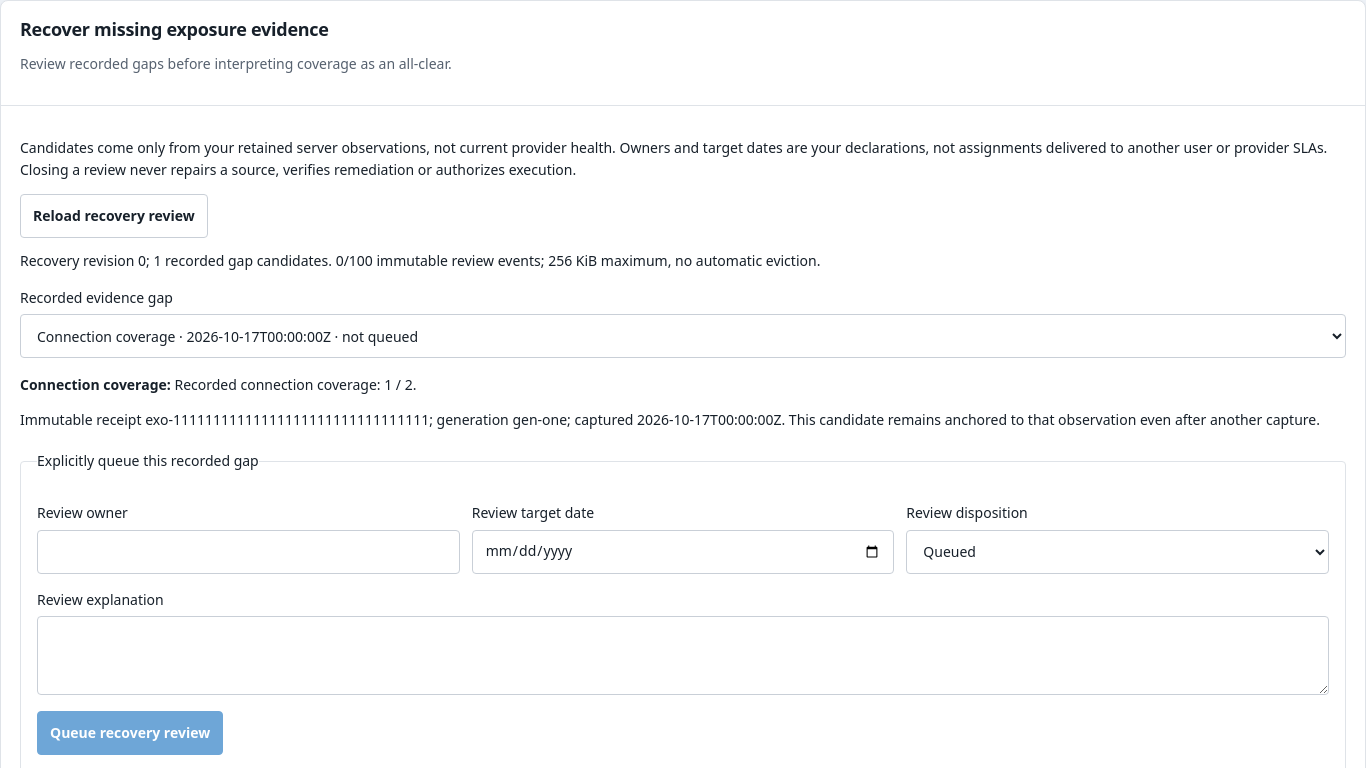
Test case: Exposure recovery review › rejects success-shaped response that changes the reviewed declaration
Expected: the text "Recovery revision 0" is shown, [20,251,820,270]
Type "Operations" into the field labelled "Review owner" at (248, 552), box [37,530,460,574]
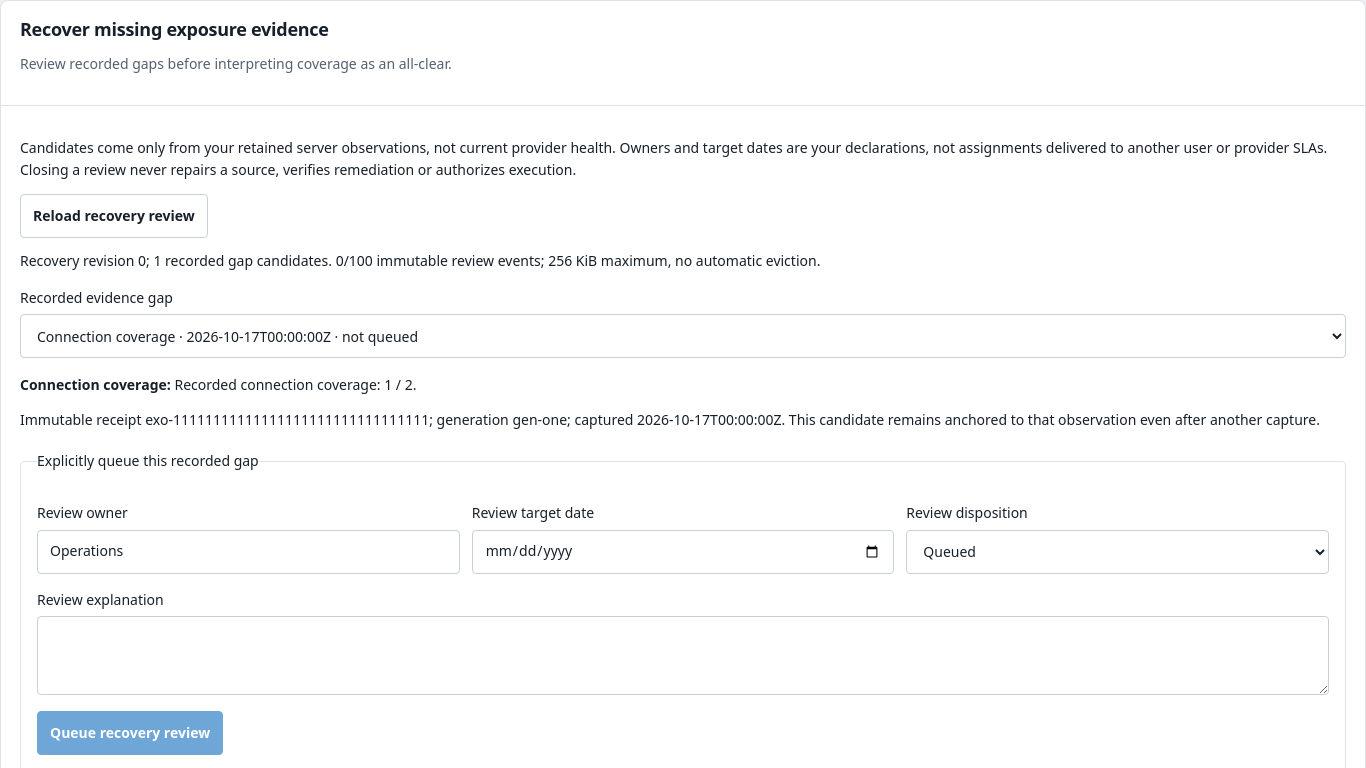
Type "2026-11-01" into the date field labelled "Review target date" at (683, 552), box [472,530,894,574]
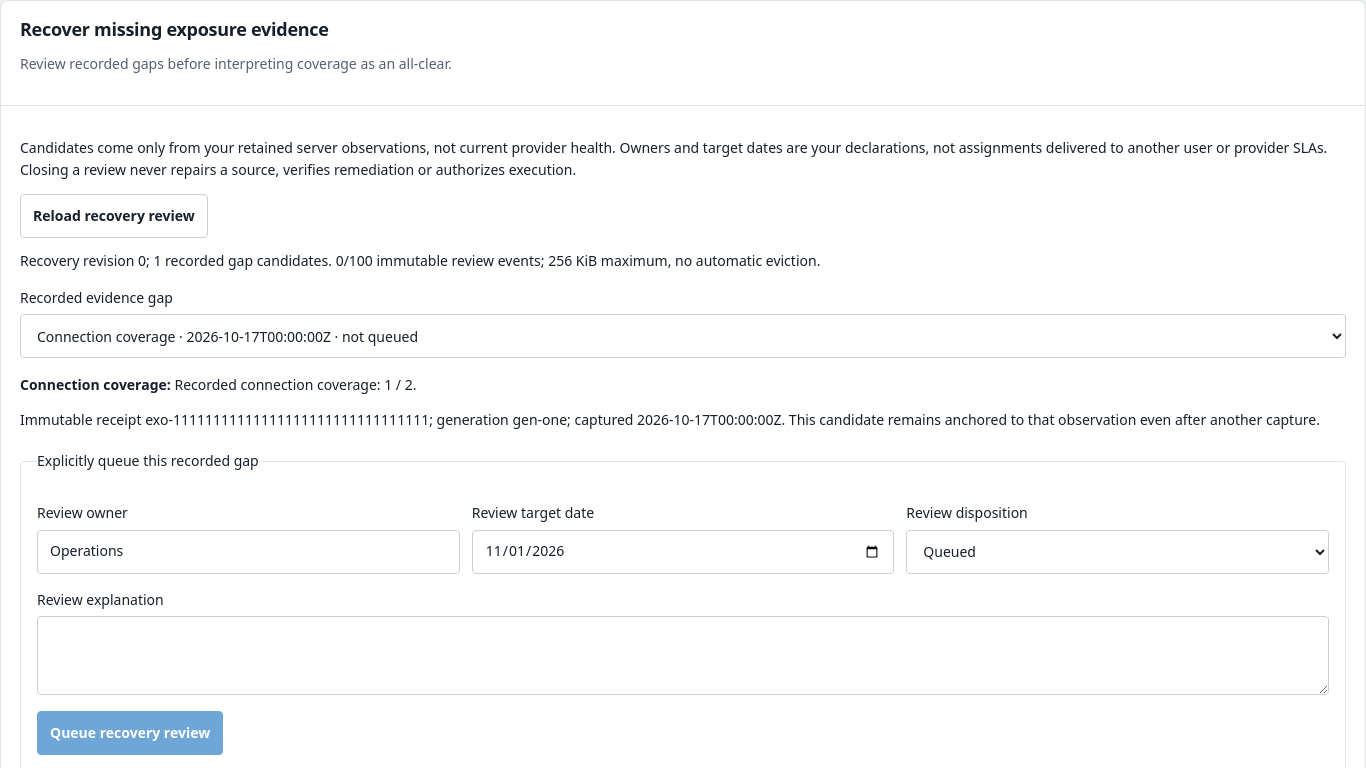
Type "Investigate excluded connection" into the text box labelled "Review explanation" at (683, 655), box [37,616,1329,695]
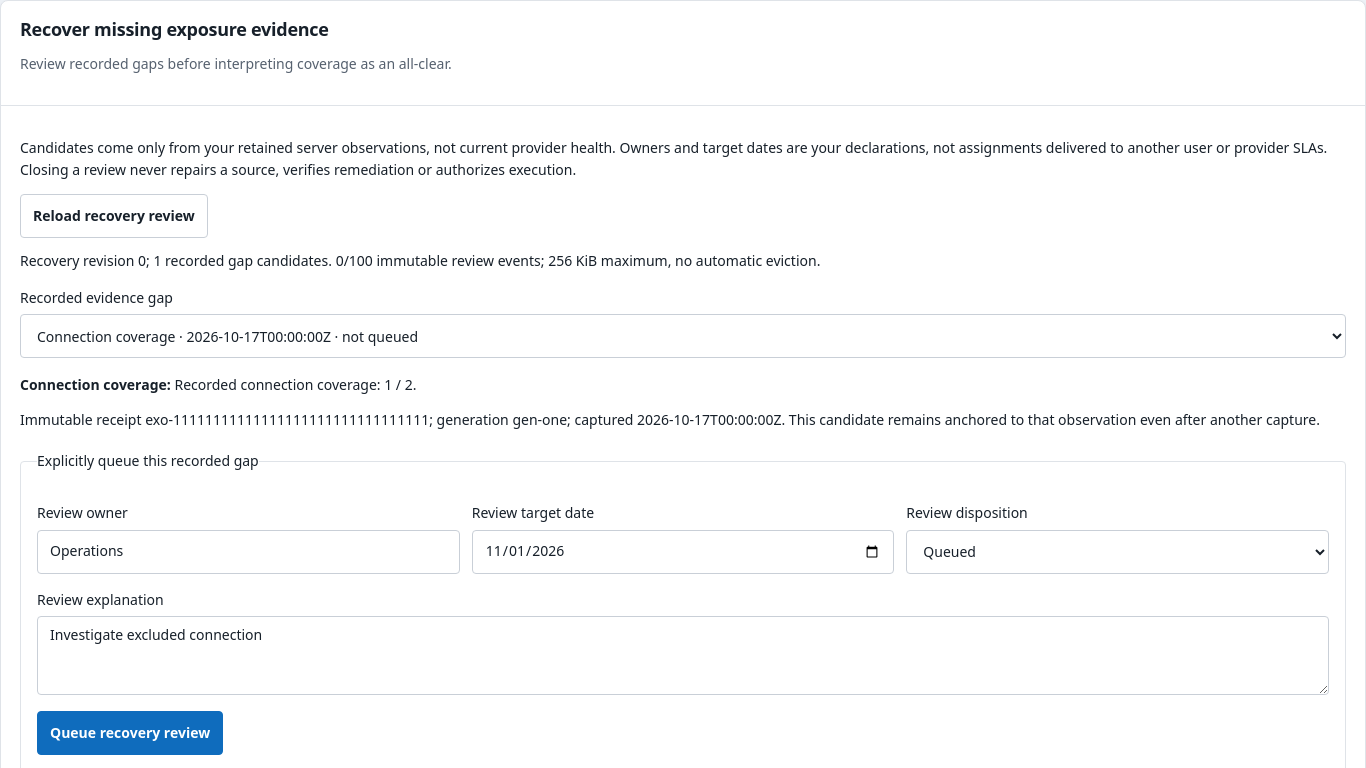
Click the button "Queue recovery review" at (130, 733), box [37,711,223,755]
(page scrolled)
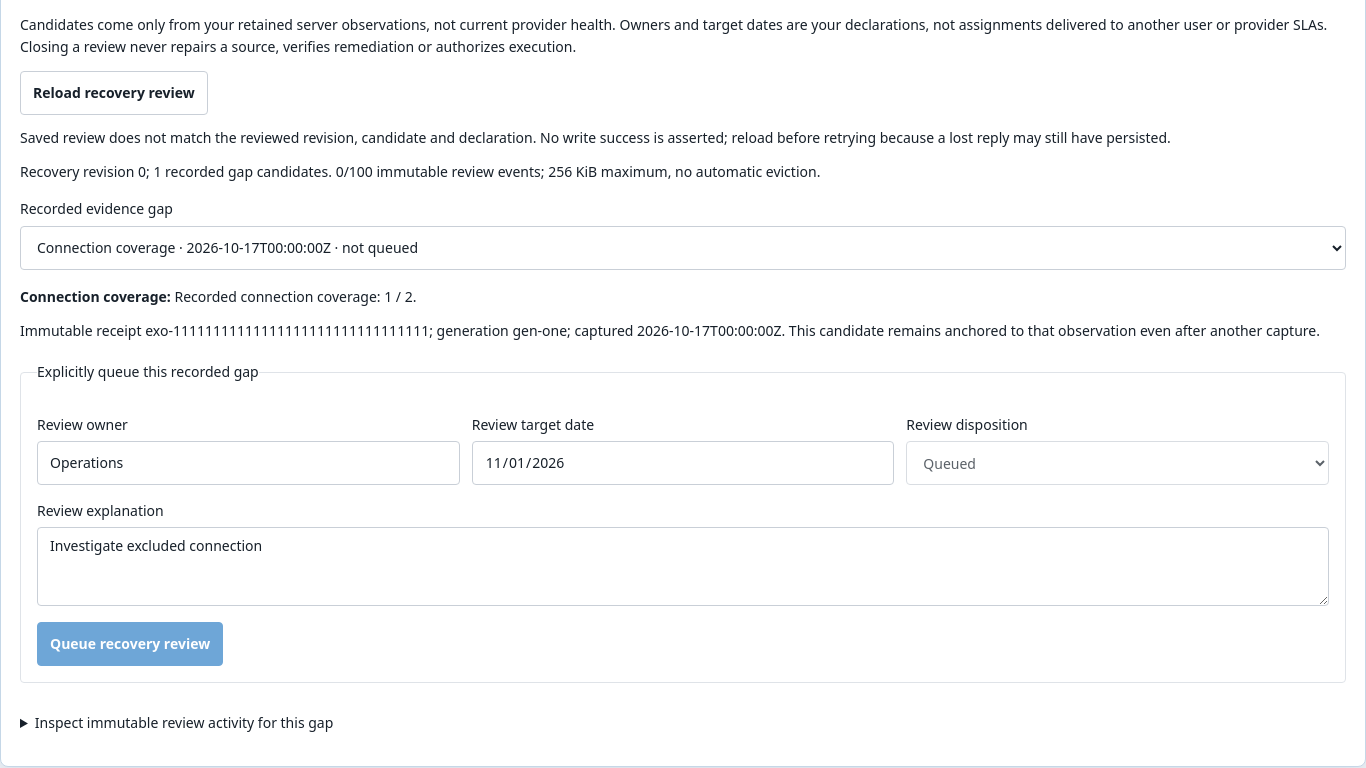
Expected: the text "Recovery revision 0" is shown, [20,162,820,181]
Expected: the button "Queue recovery review" is disabled, [37,622,223,666]
Expected: the message shows "does not match", [20,128,536,147]
